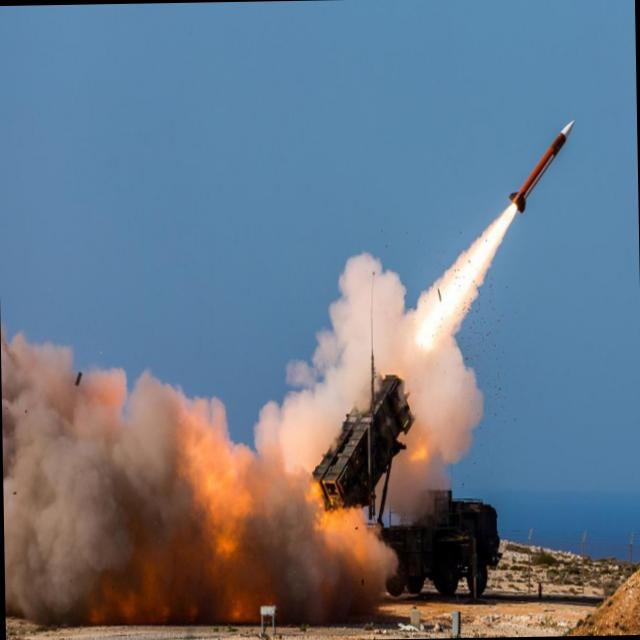rocket: (449, 112, 587, 311)
